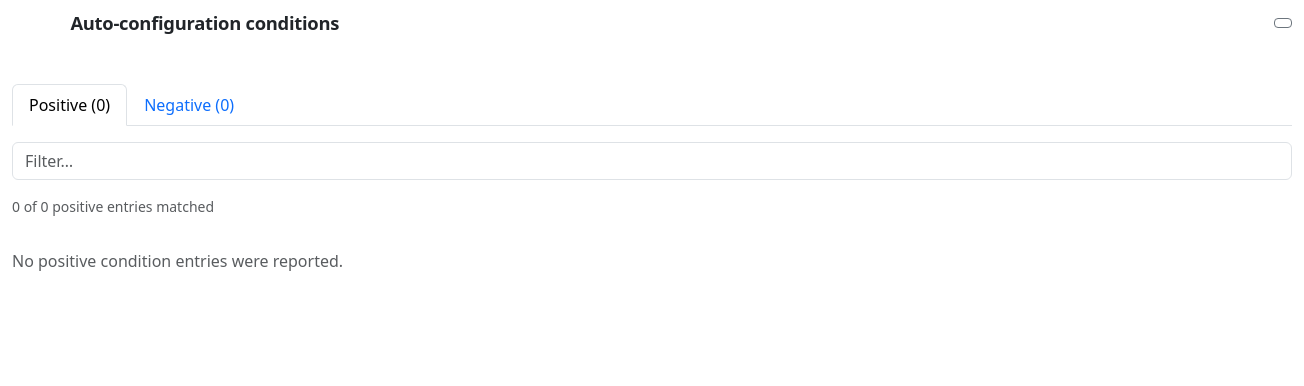
Conditions › surfaces a genuine failure from the replacement after silently aborting the stale request
Click the tab with class "nav-link" showing "Negative (0)" at (189, 105), box x1=127 y1=84 x2=251 y2=126
Wait 250 ms
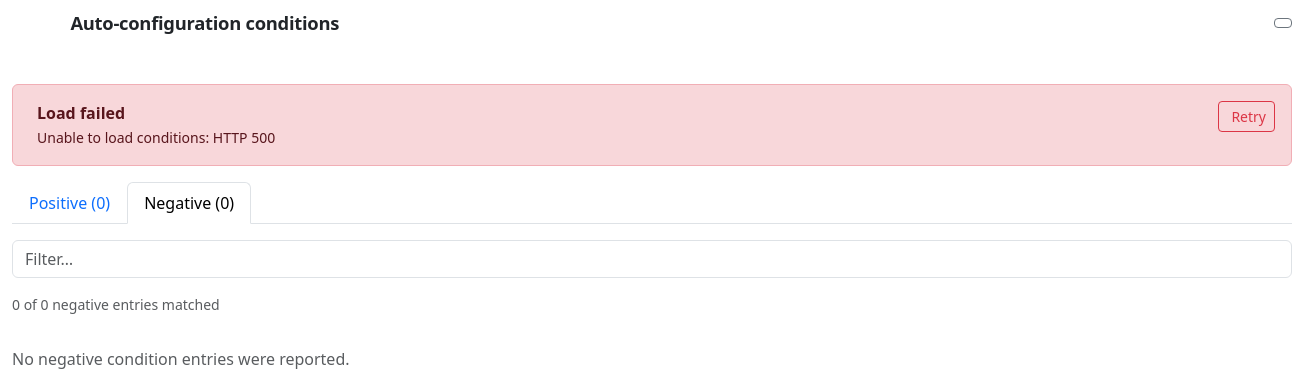
Check: the text "Unable to load conditions: HTTP 500" is shown, box x1=37 y1=128 x2=275 y2=147
